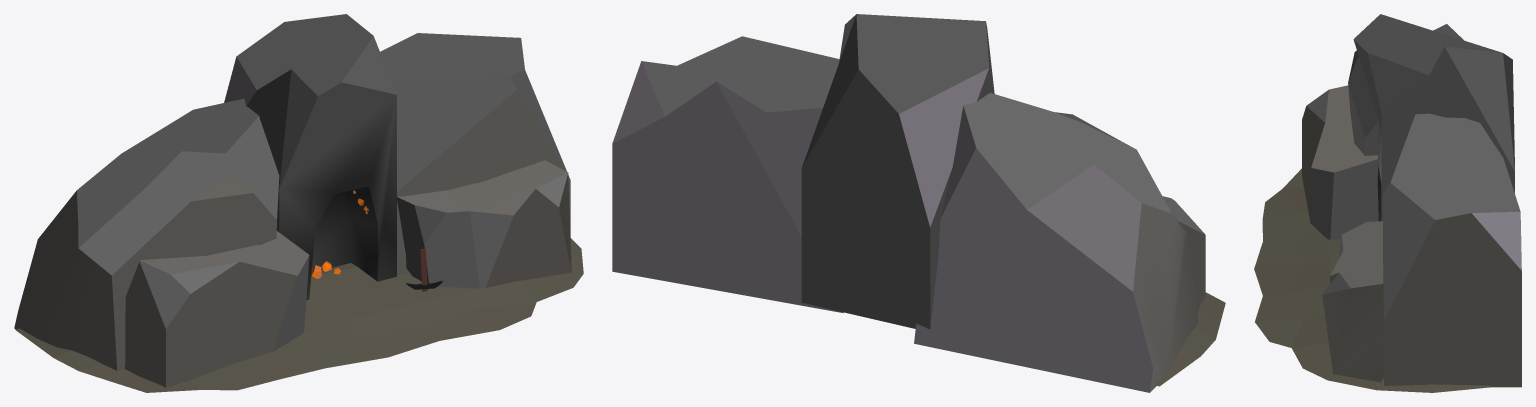
Rendered from iron_mine_Low1.fbx.
3 renders of one model, left to right at view 1: azimuth 30°, elevation 25°; view 2: azimuth 150°, elevation 25°; view 3: azimuth 270°, elevation 25°, orthographic. The views are drawn at different scales.
Parts seen in each view (by area): view 1: rock, Plane; view 2: rock, Plane; view 3: rock, Plane.
Boxes of the visible parts, bbox=[...] form: rock: bbox=[14, 14, 571, 387]; Plane: bbox=[15, 238, 583, 392]; rock: bbox=[612, 14, 1205, 392]; Plane: bbox=[1154, 292, 1225, 386]; rock: bbox=[1302, 14, 1521, 387]; Plane: bbox=[1254, 168, 1490, 392].
Bounding box in the file's own units: 911 × 443 × 425.
